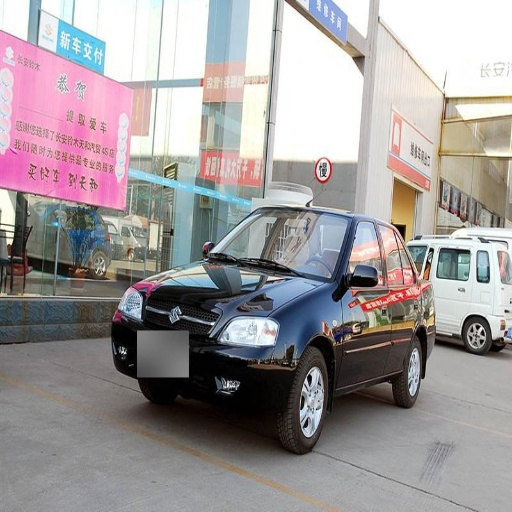front_bumper: (113, 290, 286, 397)
front_glass: (206, 208, 351, 278)
front_left_door: (342, 220, 390, 384)
trunk: (409, 271, 459, 334)
